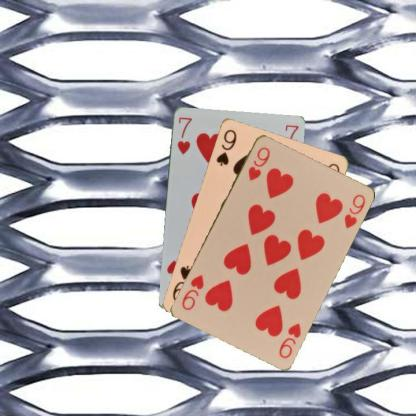7h: (174, 114, 193, 155)
9h: (276, 320, 302, 360), (245, 144, 271, 182)
9s: (213, 127, 238, 167)
